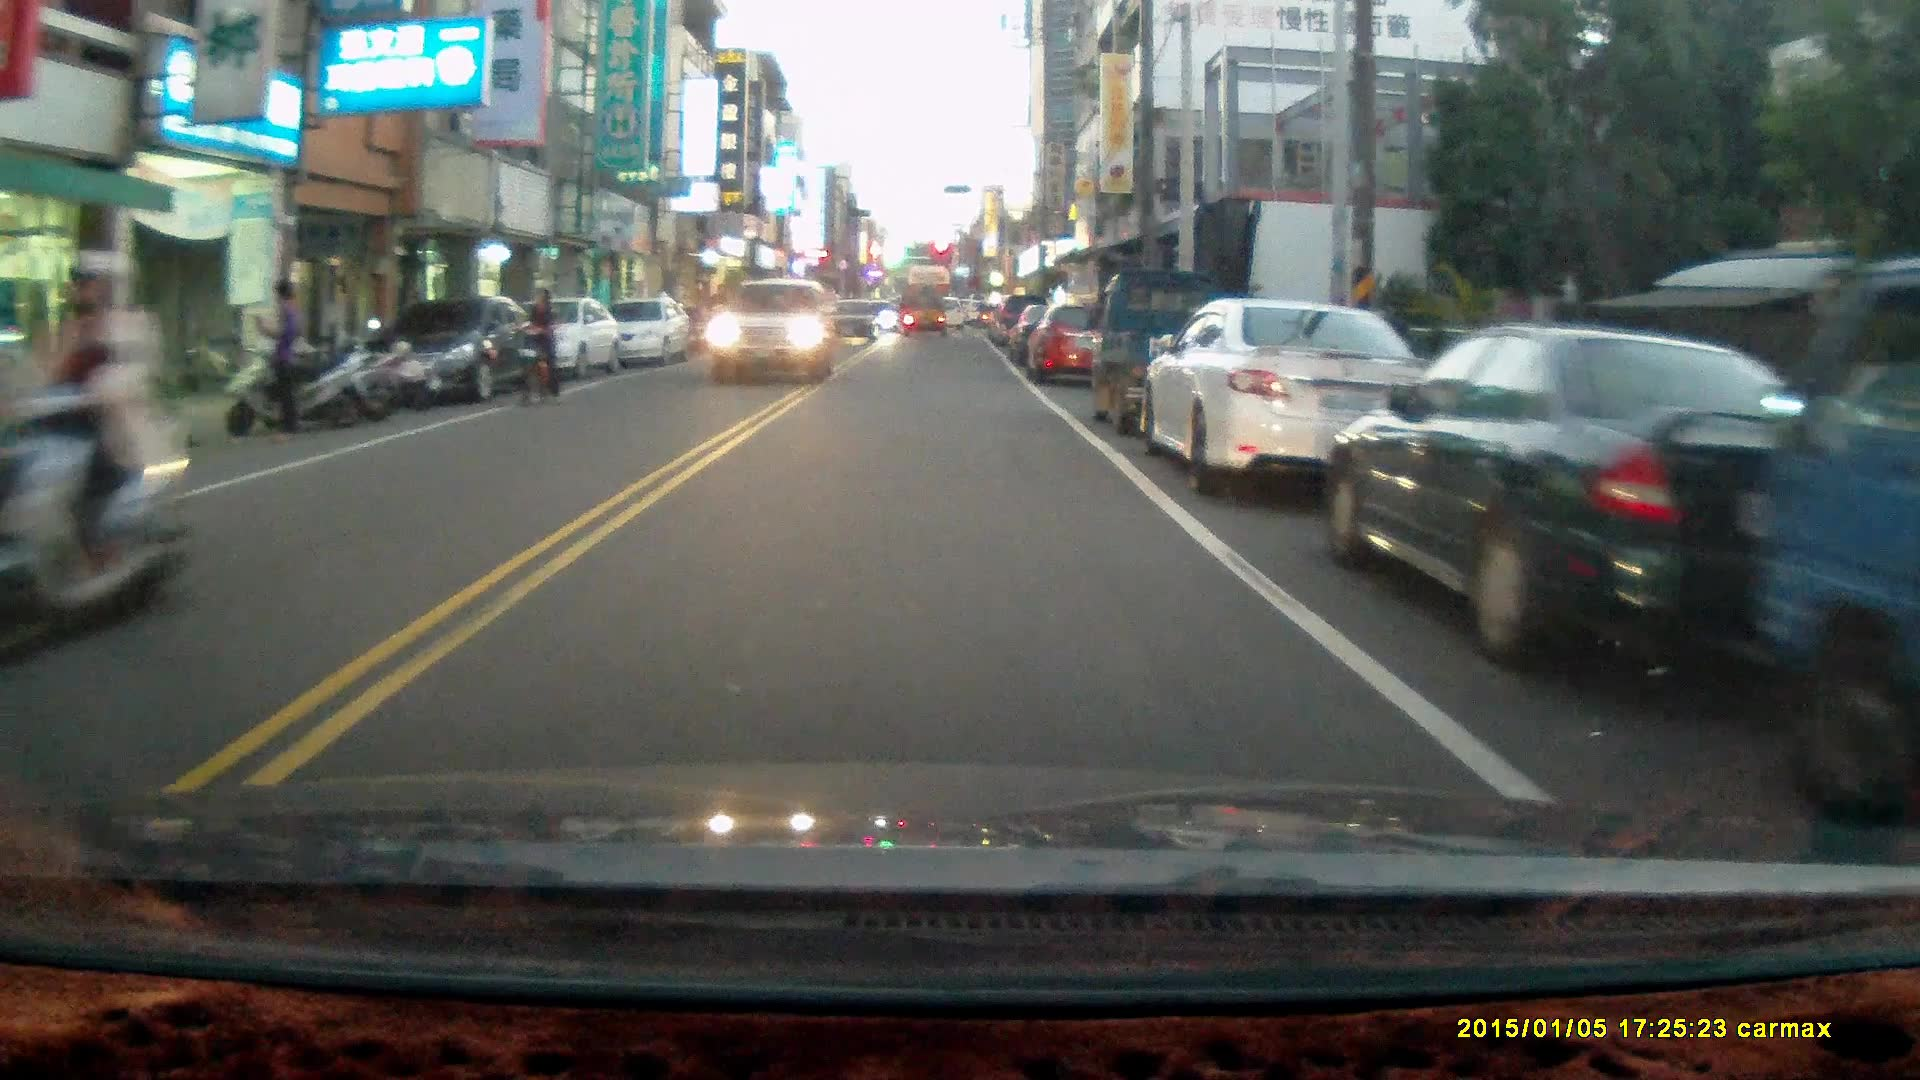pedestrian: (254, 274, 300, 444)
rider: (1, 247, 194, 665), (513, 286, 560, 409)
vehicle: (1318, 323, 1840, 678), (1749, 257, 1920, 836), (1135, 295, 1443, 495), (1091, 262, 1266, 444), (367, 290, 541, 402), (707, 279, 838, 381), (1025, 306, 1131, 386), (590, 297, 693, 365), (823, 297, 885, 350), (898, 283, 950, 340)
